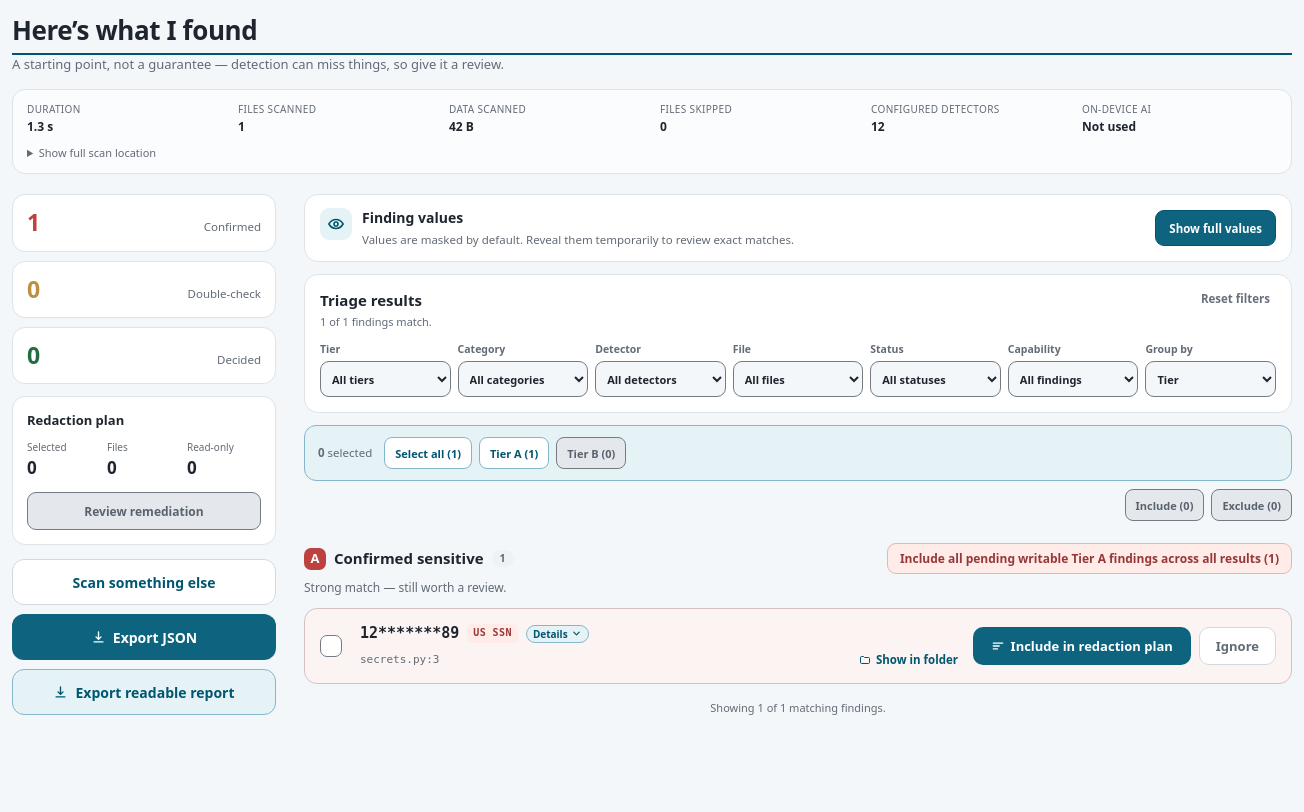
it: ResultsScreen › keeps exact values masked until the user reveals them and clears them when hidden
This screenshot has width=1304, height=812.
Expected: the text "12*******89" is shown, [360,623,459,644]
Expected: the text "123-45-6789" is not shown
What coordinates should you click on to do the following:
click the switch named "Full finding values"
I would click on:
 (1216, 228)
Its box is [1155,210,1276,246].
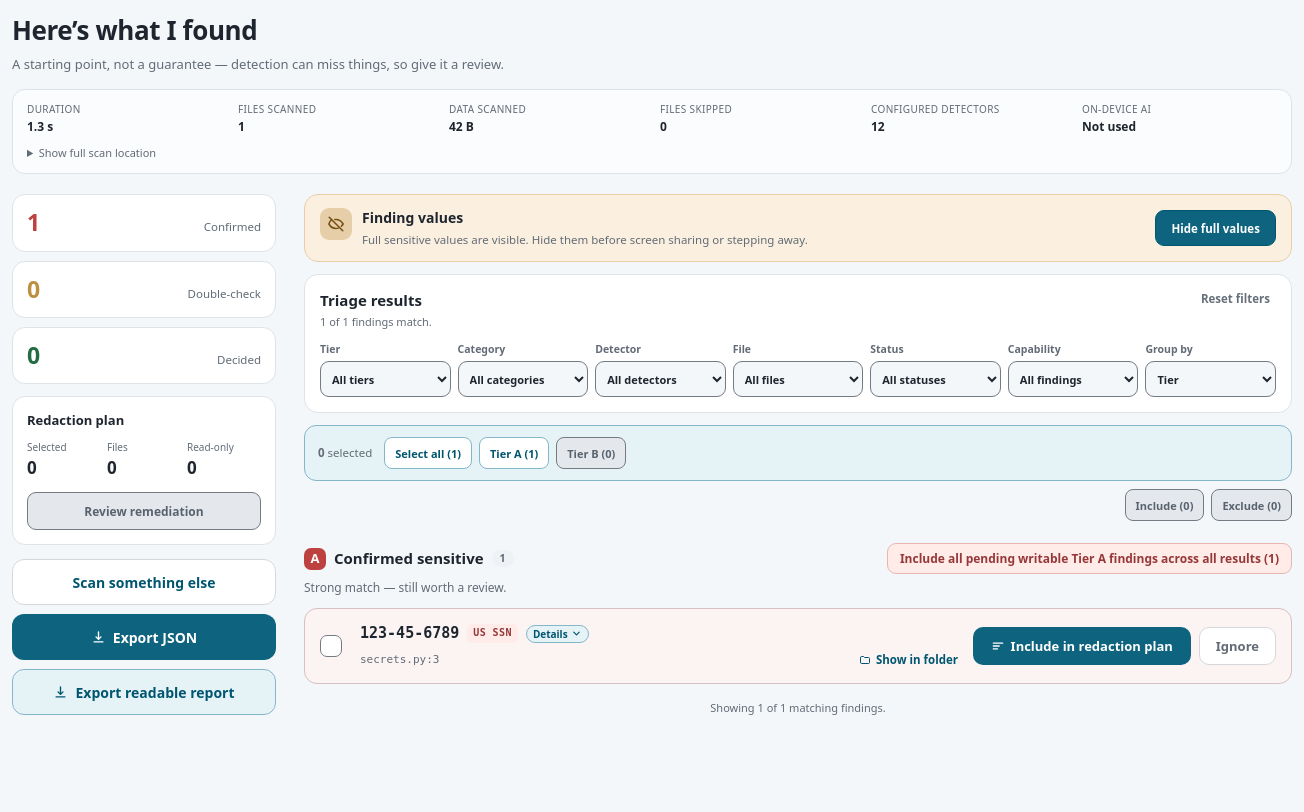
Expected: the button "Include in redaction plan" is shown, [973,627,1191,665]
Result: the text "123-45-6789" is shown at [360,623,459,644]
Result: the text "Hide them before screen sharing" is shown at [362,232,808,247]
What coordinates should you click on to do the following:
click the switch named "Full finding values"
I would click on:
 (1216, 228)
Its box is [1155,210,1276,246].
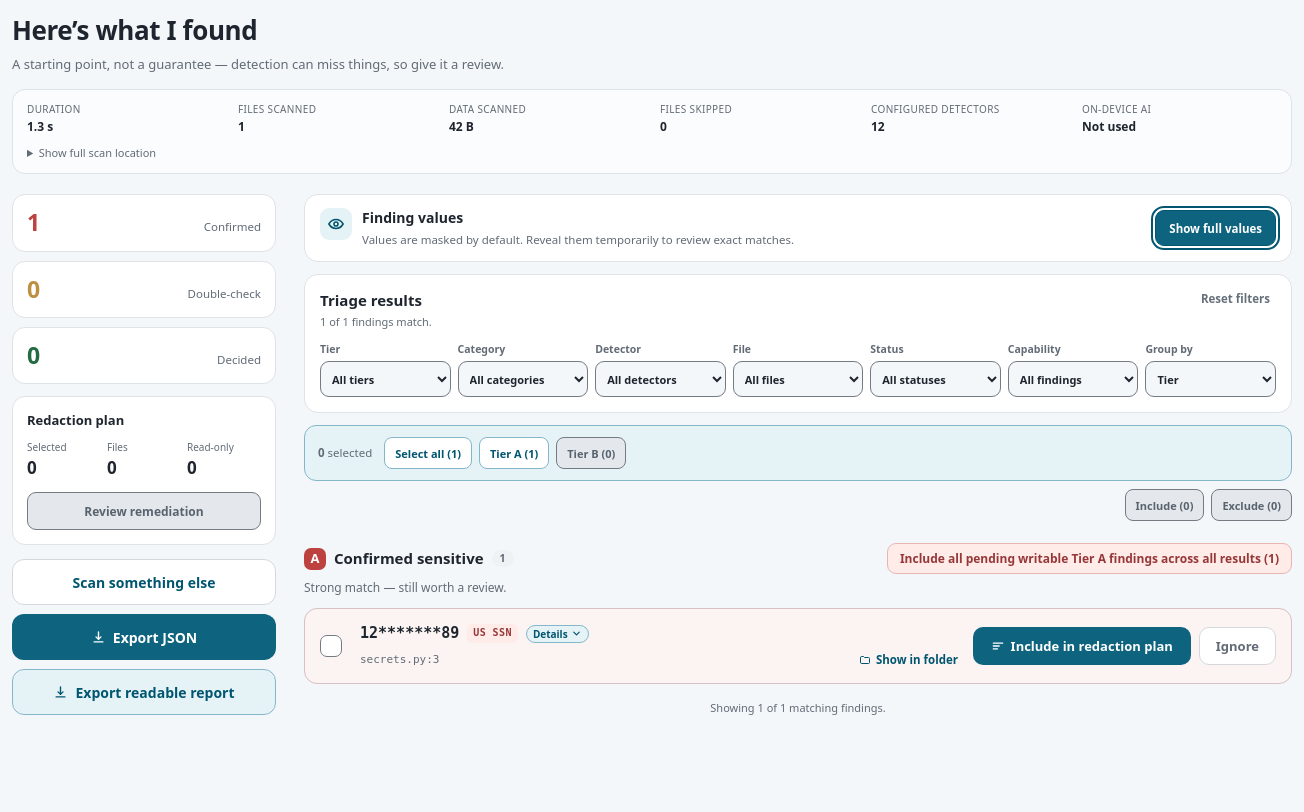
Result: the heading "123-45-6789" is gone
Result: the text "12*******89" is shown at [360,623,459,644]
